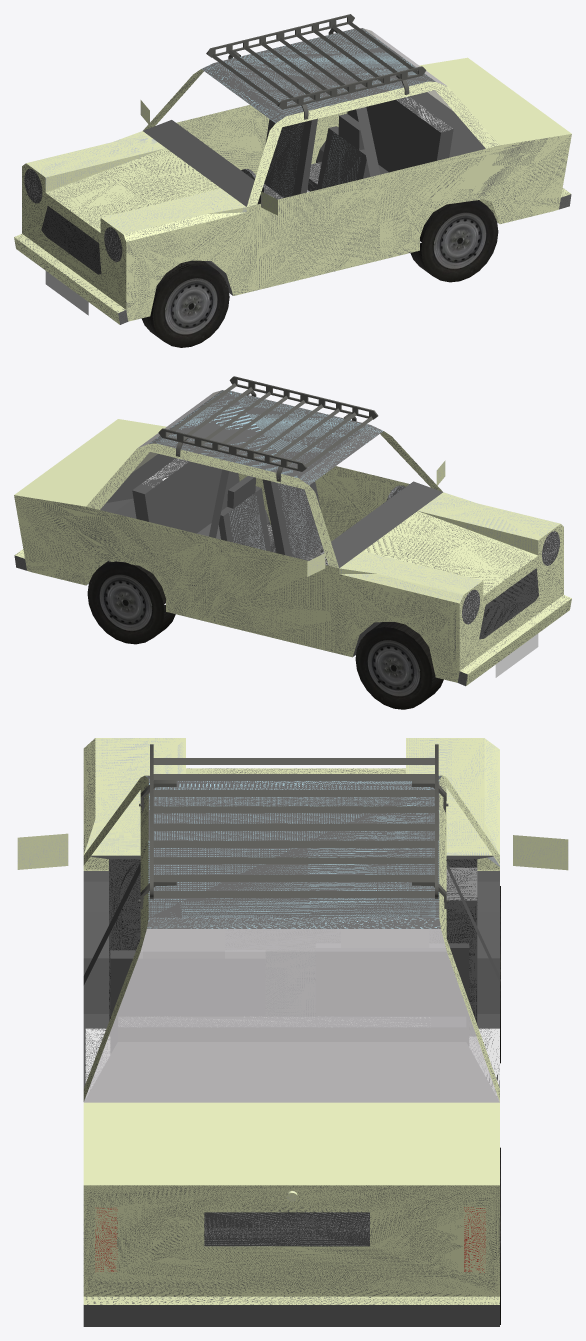
File: TrabLP4.fbx
The picture shows the model from 3 angles, top to bottom: view 1: azimuth 30°, elevation 25°; view 2: azimuth 150°, elevation 25°; view 3: azimuth 270°, elevation 25°; orthographic projection. The views are drawn at different scales.
Visible parts, largest first — view 1: SketchUp, SketchUp.012, SketchUp.008, SketchUp.007, instance_5.005, instance_2, instance_3, SketchUp.002, SketchUp.013, instance_5.014, SketchUp.016, SketchUp.003 (+14 smaller); view 2: SketchUp.002, SketchUp.012, SketchUp.008, instance_5.005, SketchUp.007, instance_1, instance_0, SketchUp, SketchUp.016, SketchUp.013, instance_5.014, instance_5.008 (+15 smaller); view 3: SketchUp.011, SketchUp.032, SketchUp.007, SketchUp.008, instance_5.005, instance_5.010, instance_5.011, instance_5, SketchUp.006, SketchUp.004, SketchUp.013, SketchUp.016 (+21 smaller).
Part boxes in pixels (x1=…): SketchUp: x1=126, y1=81, x2=571, y2=321; SketchUp.012: x1=22, y1=148, x2=244, y2=309; SketchUp.008: x1=201, y1=28, x2=435, y2=123; SketchUp.007: x1=419, y1=57, x2=571, y2=145; instance_5.005: x1=347, y1=92, x2=479, y2=172; instance_2: x1=152, y1=265, x2=229, y2=347; instance_3: x1=421, y1=200, x2=498, y2=282; SketchUp.002: x1=143, y1=29, x2=374, y2=175; SketchUp.013: x1=26, y1=131, x2=165, y2=192; instance_5.014: x1=143, y1=120, x2=263, y2=206; SketchUp.016: x1=101, y1=188, x2=246, y2=234; SketchUp.003: x1=14, y1=234, x2=125, y2=324; SketchUp.002: x1=14, y1=443, x2=459, y2=682; SketchUp.012: x1=363, y1=511, x2=563, y2=670; SketchUp.008: x1=149, y1=390, x2=383, y2=485; instance_5.005: x1=106, y1=454, x2=239, y2=533; SketchUp.007: x1=14, y1=419, x2=166, y2=506; instance_1: x1=355, y1=627, x2=432, y2=709; instance_0: x1=87, y1=561, x2=164, y2=644; SketchUp: x1=211, y1=391, x2=442, y2=541; SketchUp.016: x1=418, y1=492, x2=560, y2=555; SketchUp.013: x1=339, y1=551, x2=482, y2=603; instance_5.014: x1=321, y1=481, x2=442, y2=567; instance_5.008: x1=277, y1=483, x2=322, y2=560; SketchUp.011: x1=83, y1=929, x2=499, y2=1102; SketchUp.032: x1=83, y1=1185, x2=499, y2=1296; SketchUp.007: x1=83, y1=1102, x2=499, y2=1185; SketchUp.008: x1=145, y1=775, x2=442, y2=928; instance_5.005: x1=84, y1=1017, x2=498, y2=1101; instance_5.010: x1=316, y1=929, x2=469, y2=1045; instance_5.011: x1=110, y1=929, x2=264, y2=1052; instance_5: x1=109, y1=859, x2=477, y2=1035; SketchUp.006: x1=83, y1=1305, x2=499, y2=1326; SketchUp.004: x1=83, y1=871, x2=499, y2=1088; SketchUp.013: x1=406, y1=738, x2=499, y2=855; SketchUp.016: x1=84, y1=738, x2=185, y2=855.
Size of the model in its own units: 210 by 91.85 by 110.
